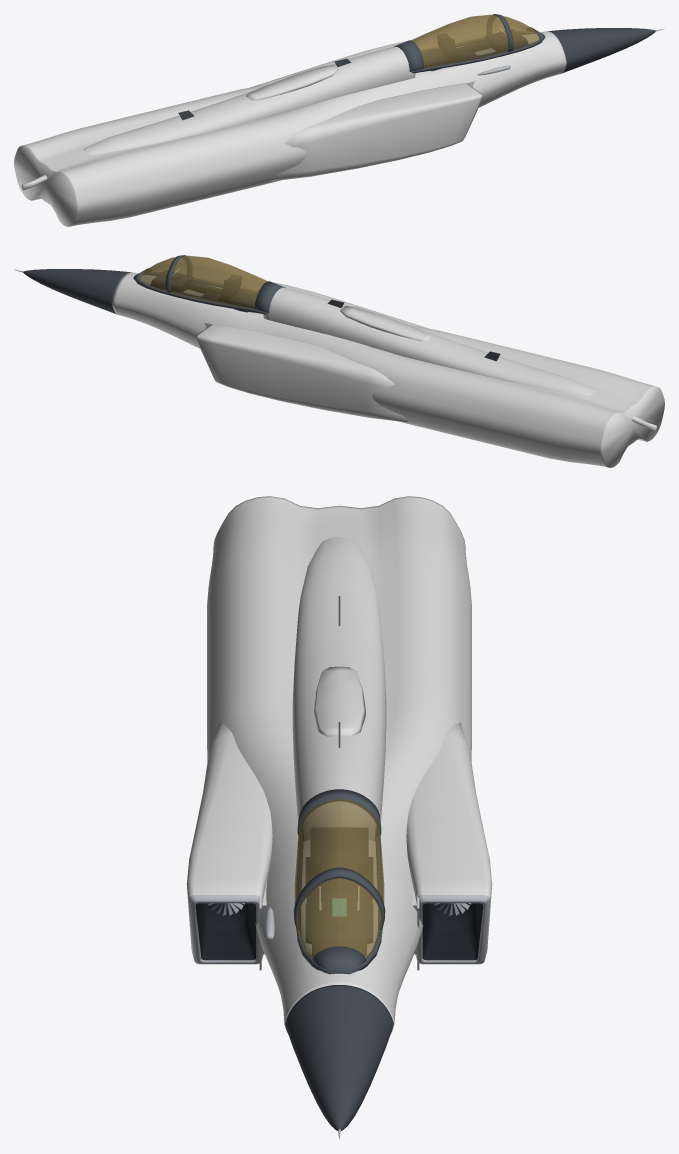
The model's file is g4_fuselage.glb.
The picture shows the model from 3 angles, top to bottom: view 1: azimuth 30°, elevation 25°; view 2: azimuth 150°, elevation 25°; view 3: azimuth 270°, elevation 25°; orthographic projection. The views are drawn at different scales.
Visible parts, largest first — view 1: G4_fuselage, G4_intake_R, G4_dorsal_spine, G4_canopy_glass, G4_radome, G4_cockpit_interior, G4_canopy_frame, G4_airbrake, G4_intake_L; view 2: G4_fuselage, G4_intake_L, G4_dorsal_spine, G4_canopy_glass, G4_radome, G4_cockpit_interior, G4_canopy_frame, G4_airbrake, G4_intake_R; view 3: G4_fuselage, G4_dorsal_spine, G4_intake_R, G4_intake_L, G4_canopy_glass, G4_radome, G4_cockpit_interior, G4_canopy_frame, G4_airbrake.
Boxes of the visible parts, x1=… form: G4_fuselage: x1=14, y1=31, x2=566, y2=226; G4_intake_R: x1=270, y1=83, x2=483, y2=181; G4_dorsal_spine: x1=21, y1=46, x2=415, y2=190; G4_canopy_glass: x1=411, y1=14, x2=539, y2=67; G4_radome: x1=548, y1=28, x2=655, y2=73; G4_cockpit_interior: x1=421, y1=29, x2=528, y2=71; G4_canopy_frame: x1=393, y1=14, x2=545, y2=73; G4_airbrake: x1=246, y1=65, x2=338, y2=100; G4_intake_L: x1=250, y1=41, x2=405, y2=87; G4_fuselage: x1=112, y1=272, x2=664, y2=467; G4_intake_L: x1=195, y1=324, x2=408, y2=422; G4_dorsal_spine: x1=263, y1=287, x2=657, y2=431; G4_canopy_glass: x1=139, y1=255, x2=267, y2=308; G4_radome: x1=23, y1=269, x2=130, y2=314; G4_cockpit_interior: x1=150, y1=270, x2=257, y2=312; G4_canopy_frame: x1=133, y1=255, x2=285, y2=314; G4_airbrake: x1=340, y1=306, x2=432, y2=341; G4_intake_R: x1=273, y1=282, x2=428, y2=328; G4_fuselage: x1=207, y1=496, x2=471, y2=1034; G4_dorsal_spine: x1=292, y1=537, x2=386, y2=840; G4_intake_R: x1=186, y1=722, x2=272, y2=964; G4_intake_L: x1=406, y1=722, x2=492, y2=964; G4_canopy_glass: x1=294, y1=799, x2=384, y2=958; G4_radome: x1=285, y1=985, x2=393, y2=1130; G4_cockpit_interior: x1=306, y1=827, x2=372, y2=956; G4_canopy_frame: x1=293, y1=789, x2=385, y2=974; G4_airbrake: x1=313, y1=666, x2=365, y2=736.
Bounding box in the file's own units: 18.35 × 2.6 × 3.78.
